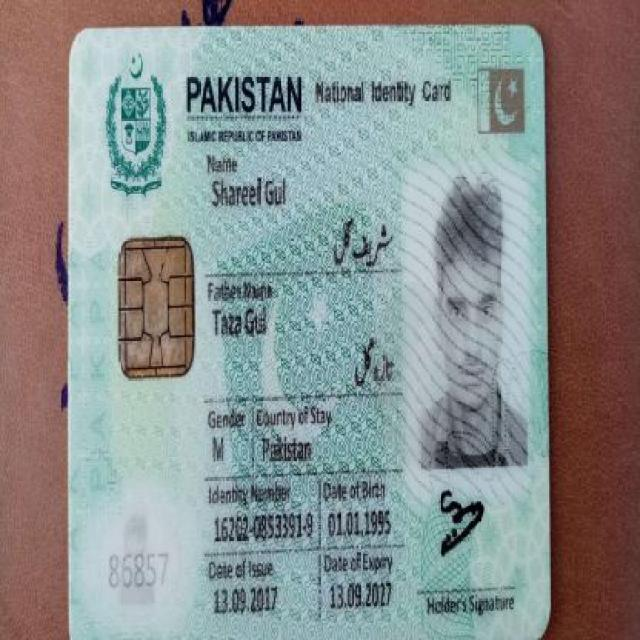Front: (56, 20, 562, 631)
